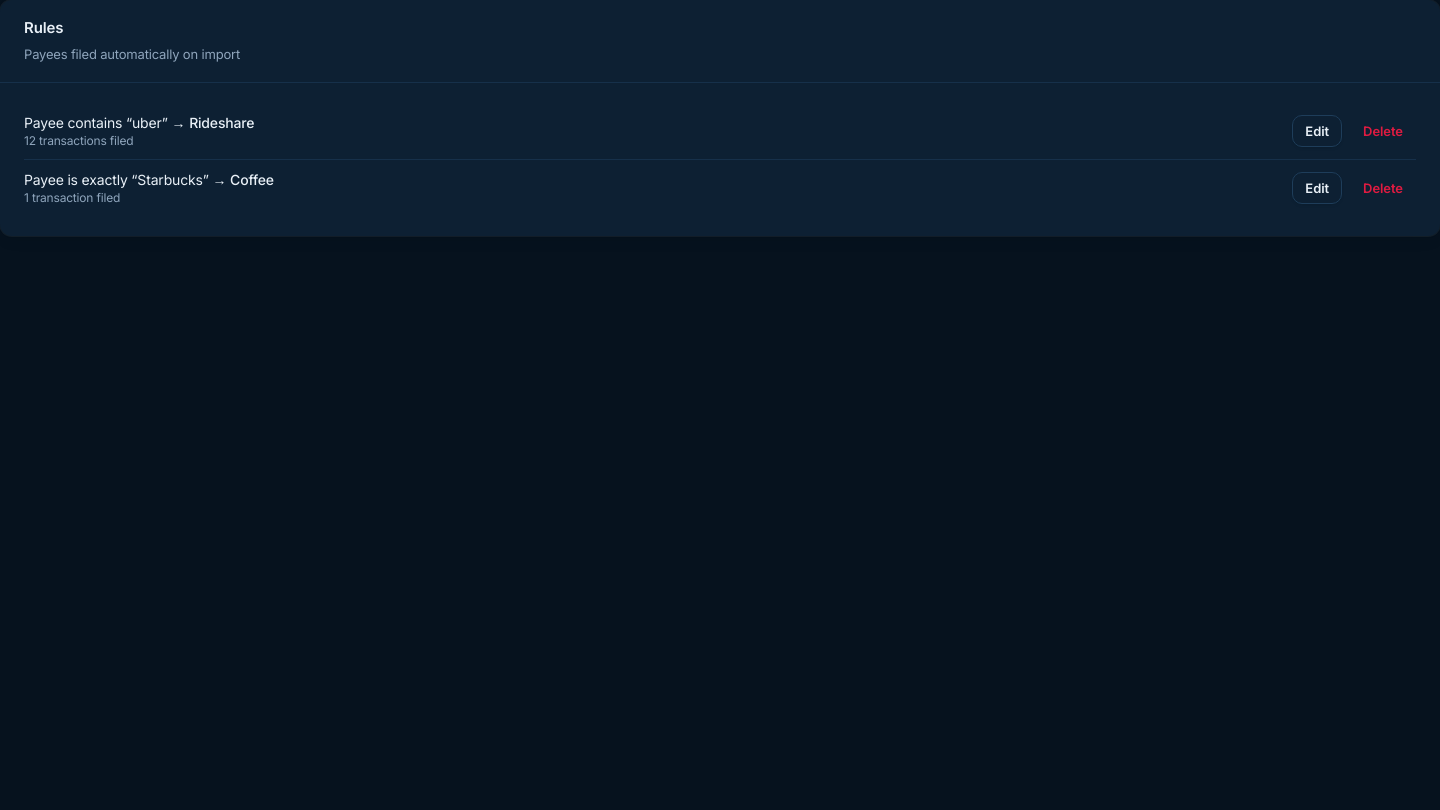
Test: CategoryRulesSection (BUD-24) › deletes a rule only after confirming
What coordinates should you click on to do the following:
click the button with aria-label "Delete rule Starbucks"
I would click on:
 (1383, 188)
Its box is left=1350, top=172, right=1416, bottom=204.
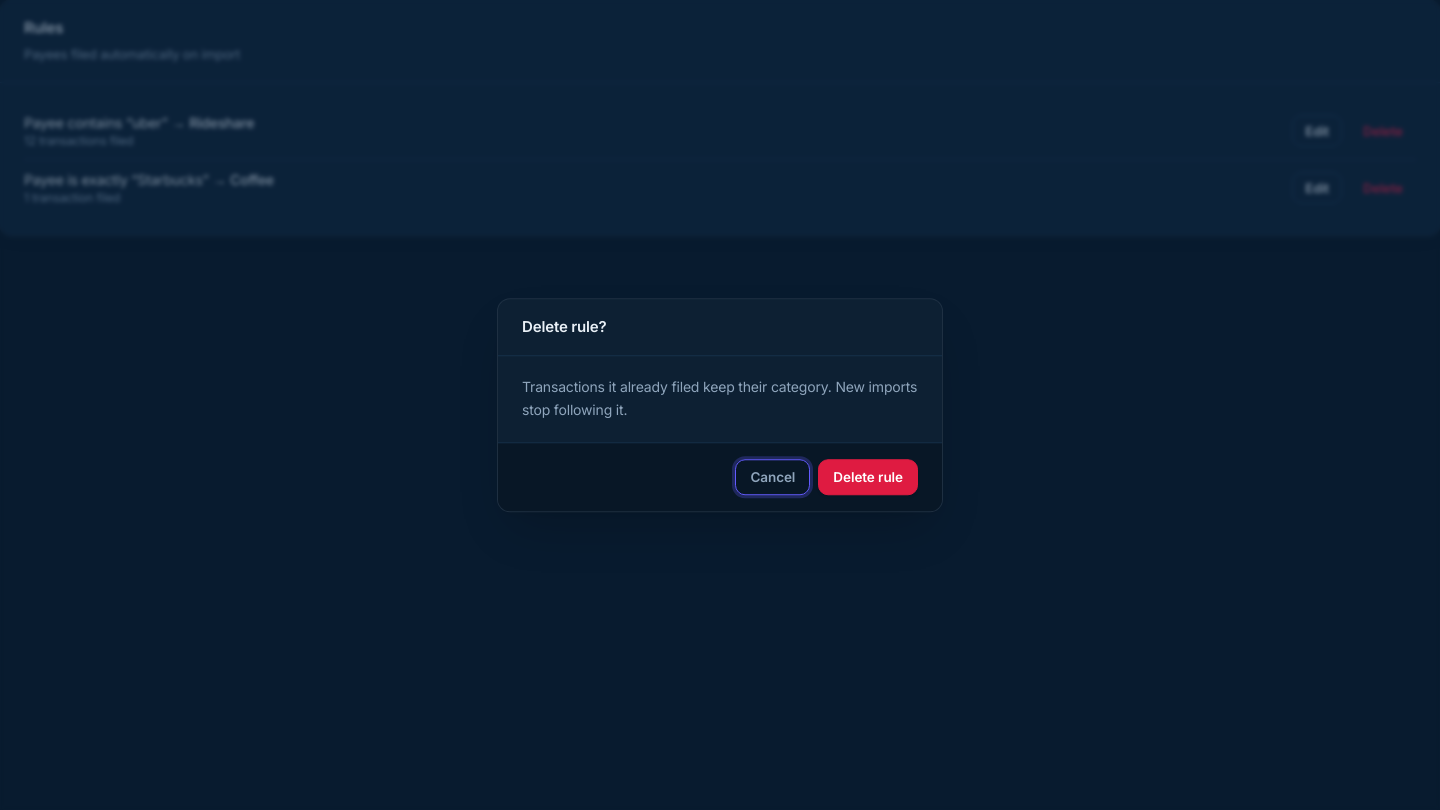
What coordinates should you click on to do the following:
click the button "Delete rule"
I would click on:
 (868, 477)
Its box is left=818, top=459, right=918, bottom=495.
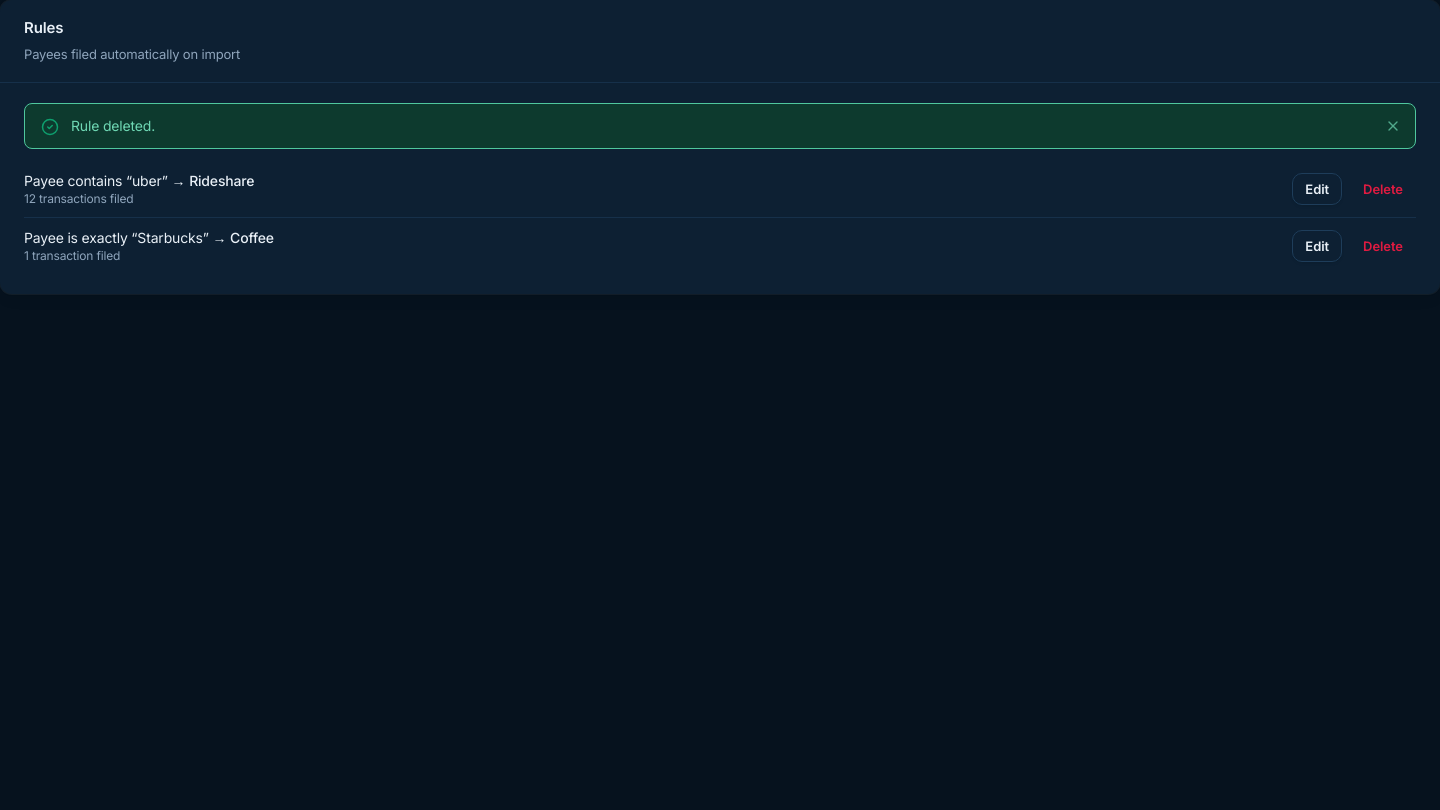
Now the text "Rule deleted." is shown, box left=71, top=117, right=155, bottom=134
